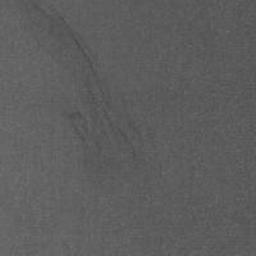Water spot: (8, 0, 169, 206)
